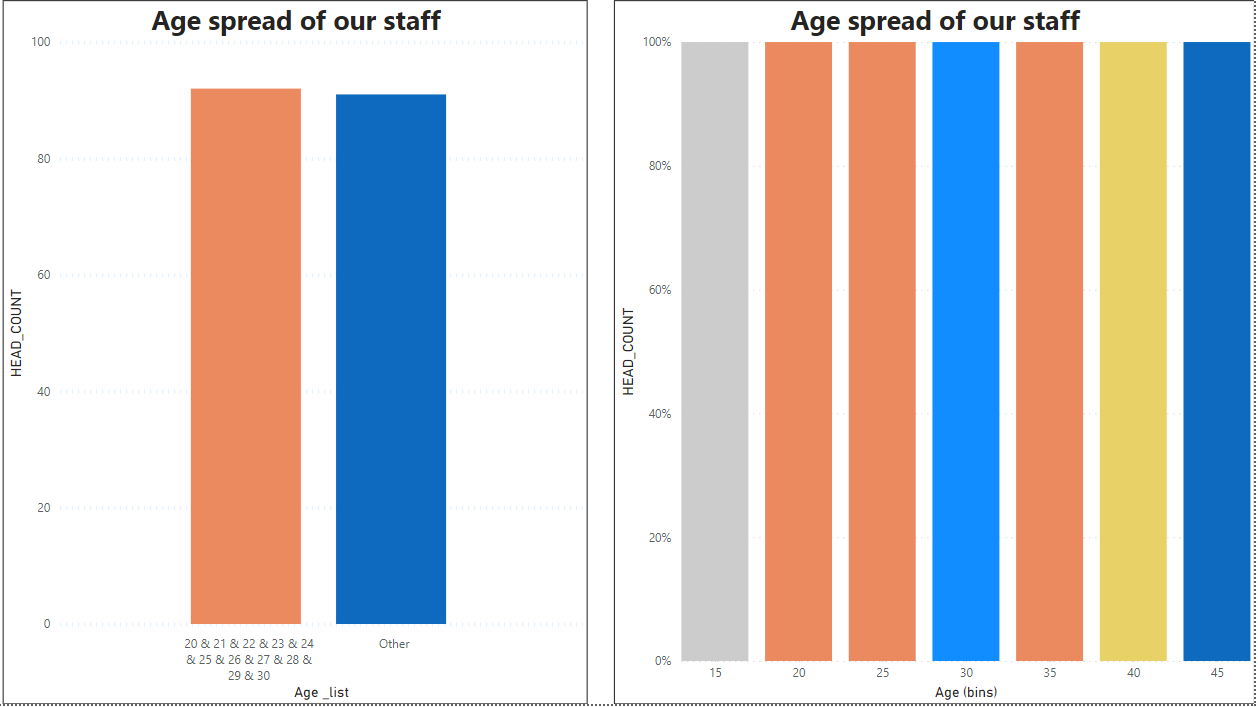

The dashboard page shown, as its layout file describes it:
{"tool":"powerbi","page":{"name":"Qn.3","canvas":[1280,720],"ordinal":3},"visuals":[{"type":"hundredPercentStackedColumnChart","title":"Age spread of our staff","fields":{"Y":["Hr.HEAD_COUNT"],"Category":["Hr.Age (bins)"]},"box":[639.5,16.5,640.8,703.9],"z":0},{"type":"columnChart","title":"Age spread of our staff","fields":{"Y":["Hr.HEAD_COUNT"],"Category":["Hr.Age _list"]},"box":[28.8,16.5,584.6,703.9],"z":1000}]}

Visuals, with their boxes in screenshot pixels (x1, y1, x2, y2), scaled from the page's 1280x720 canvas onto the 1258x707 screenshot:
"Age spread of our staff" hundredPercentStackedColumnChart: (x1=629, y1=16, x2=1257, y2=706)
"Age spread of our staff" columnChart: (x1=28, y1=16, x2=603, y2=706)
